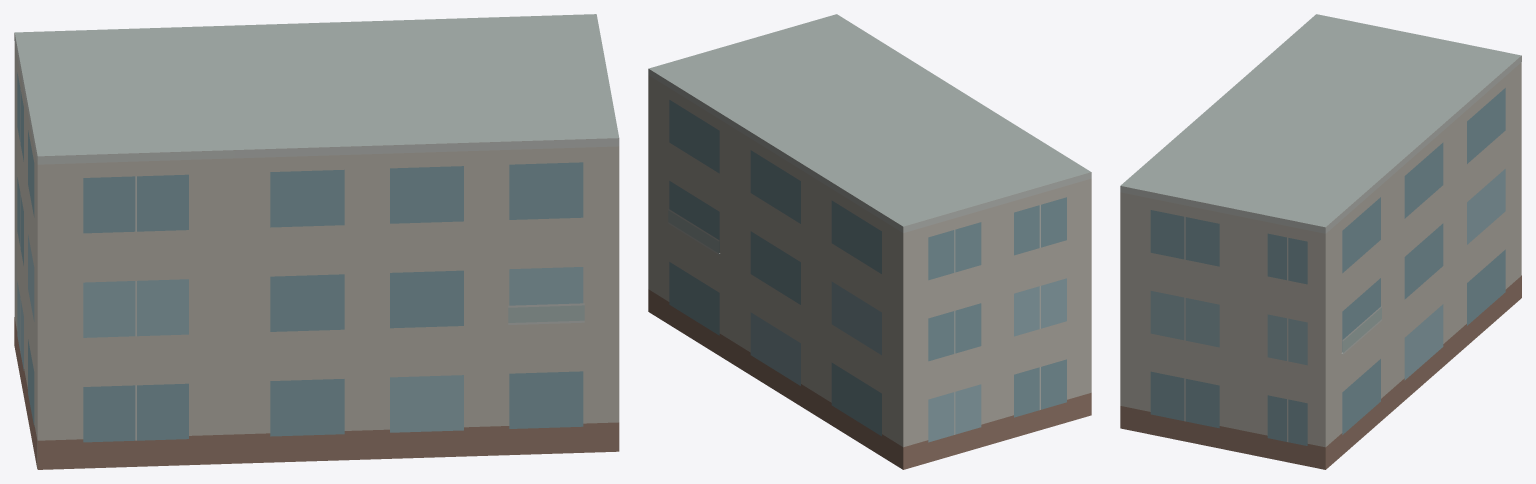
Rendered from survey-upis-32822670.glb.
The picture shows the model from 3 angles, left to right: view 1: azimuth 30°, elevation 25°; view 2: azimuth 150°, elevation 25°; view 3: azimuth 270°, elevation 25°; orthographic projection. The views are drawn at different scales.
Visible parts, largest first — view 1: survey-upis-32822670.tmp; view 2: survey-upis-32822670.tmp; view 3: survey-upis-32822670.tmp.
Part boxes in pixels (x1,y1,x2,y2): survey-upis-32822670.tmp: (14,14,619,469); survey-upis-32822670.tmp: (648,14,1091,469); survey-upis-32822670.tmp: (1120,14,1521,469).
Bounding box in the file's own units: 17.27 × 9.15 × 13.74.
